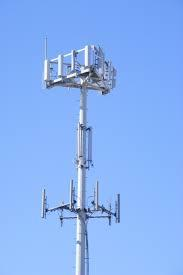antenna: (82, 45, 94, 73), (114, 192, 124, 225), (66, 178, 75, 213), (41, 57, 52, 83), (39, 187, 47, 219), (55, 53, 66, 76), (68, 50, 78, 75), (94, 179, 99, 212)
